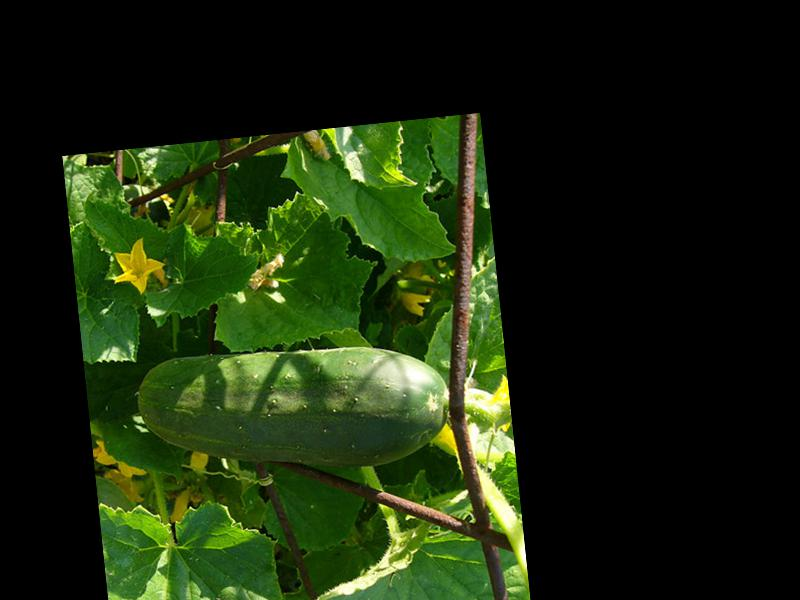Cucumber: (132, 330, 454, 492)
